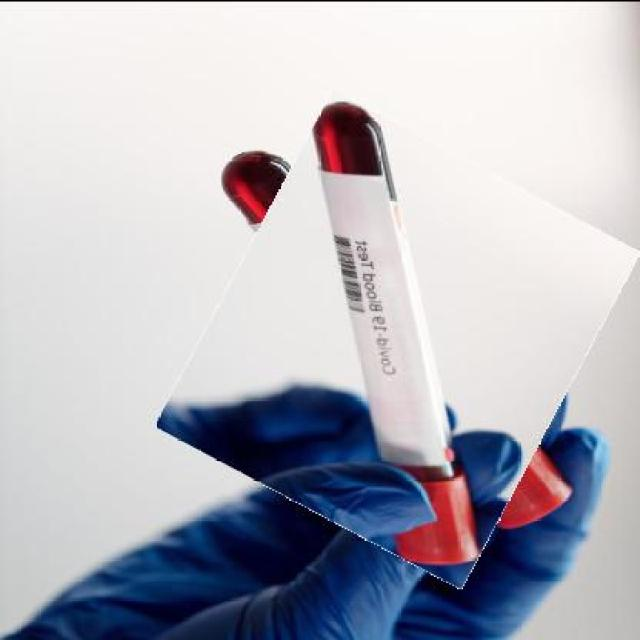Experimental-tube: (190, 116, 607, 558)
